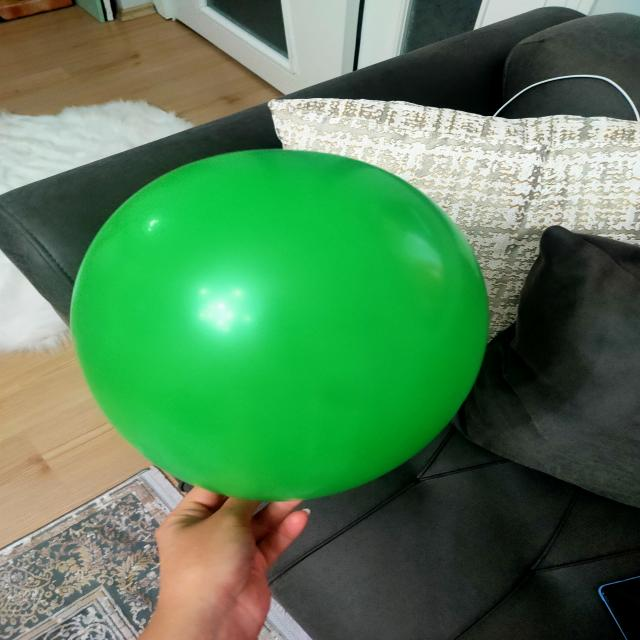green: (71, 151, 490, 504)
